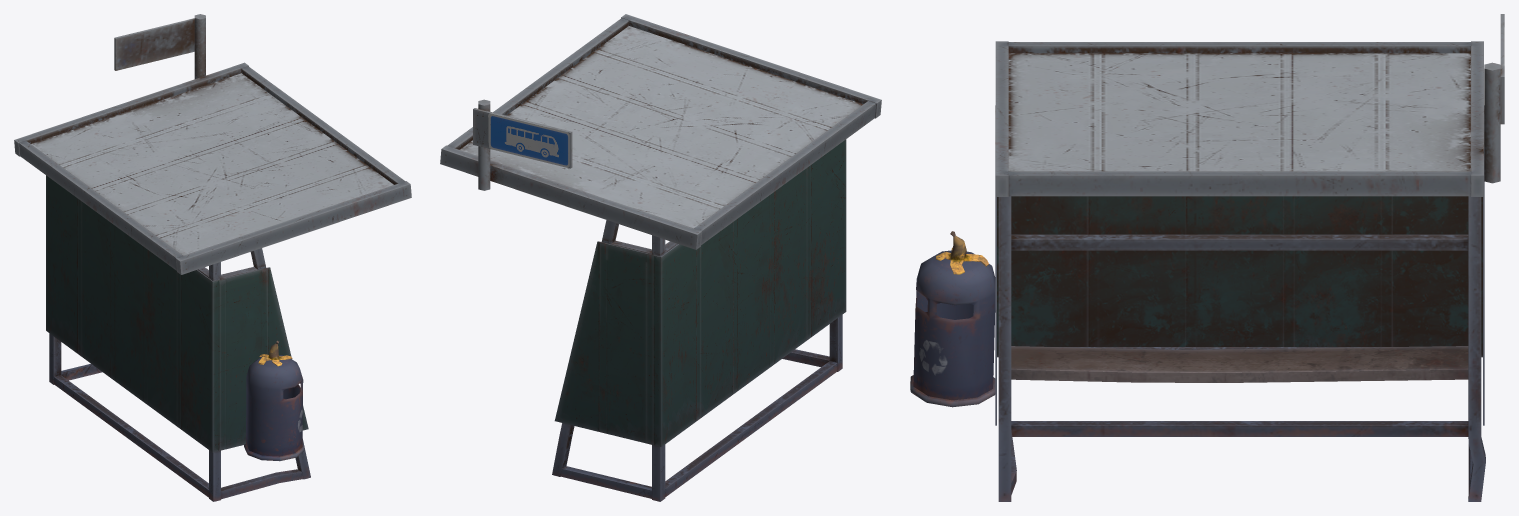
File: bus_stop_shelter.glb
The picture shows the model from 3 angles, left to right: view 1: azimuth 30°, elevation 25°; view 2: azimuth 150°, elevation 25°; view 3: azimuth 270°, elevation 25°; orthographic projection. The views are drawn at different scales.
Parts seen in each view (by area): view 1: MAT_BusStop; view 2: MAT_BusStop; view 3: MAT_BusStop.
Part boxes in pixels (x1,y1,x2,y2): MAT_BusStop: (14, 14, 411, 501); MAT_BusStop: (440, 14, 881, 501); MAT_BusStop: (910, 14, 1504, 501).
Bounding box in the file's own units: 2.41 × 3.23 × 3.64.
Materials: 1 (1 with a texture image).
